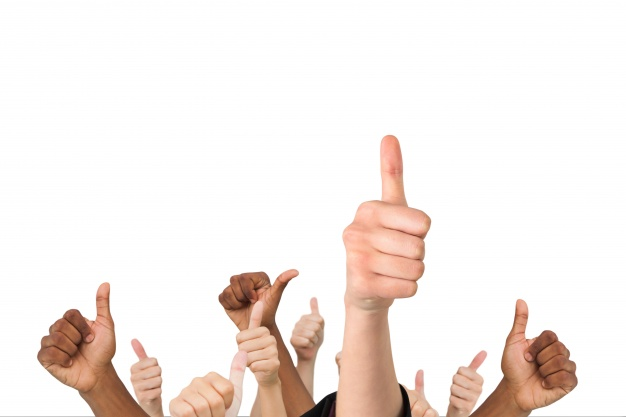thumbsup: (337, 135, 432, 304), (499, 298, 580, 411), (36, 280, 118, 390), (167, 347, 249, 417), (217, 267, 300, 329), (234, 300, 283, 378), (445, 350, 488, 415), (129, 337, 164, 405), (289, 297, 325, 357)
